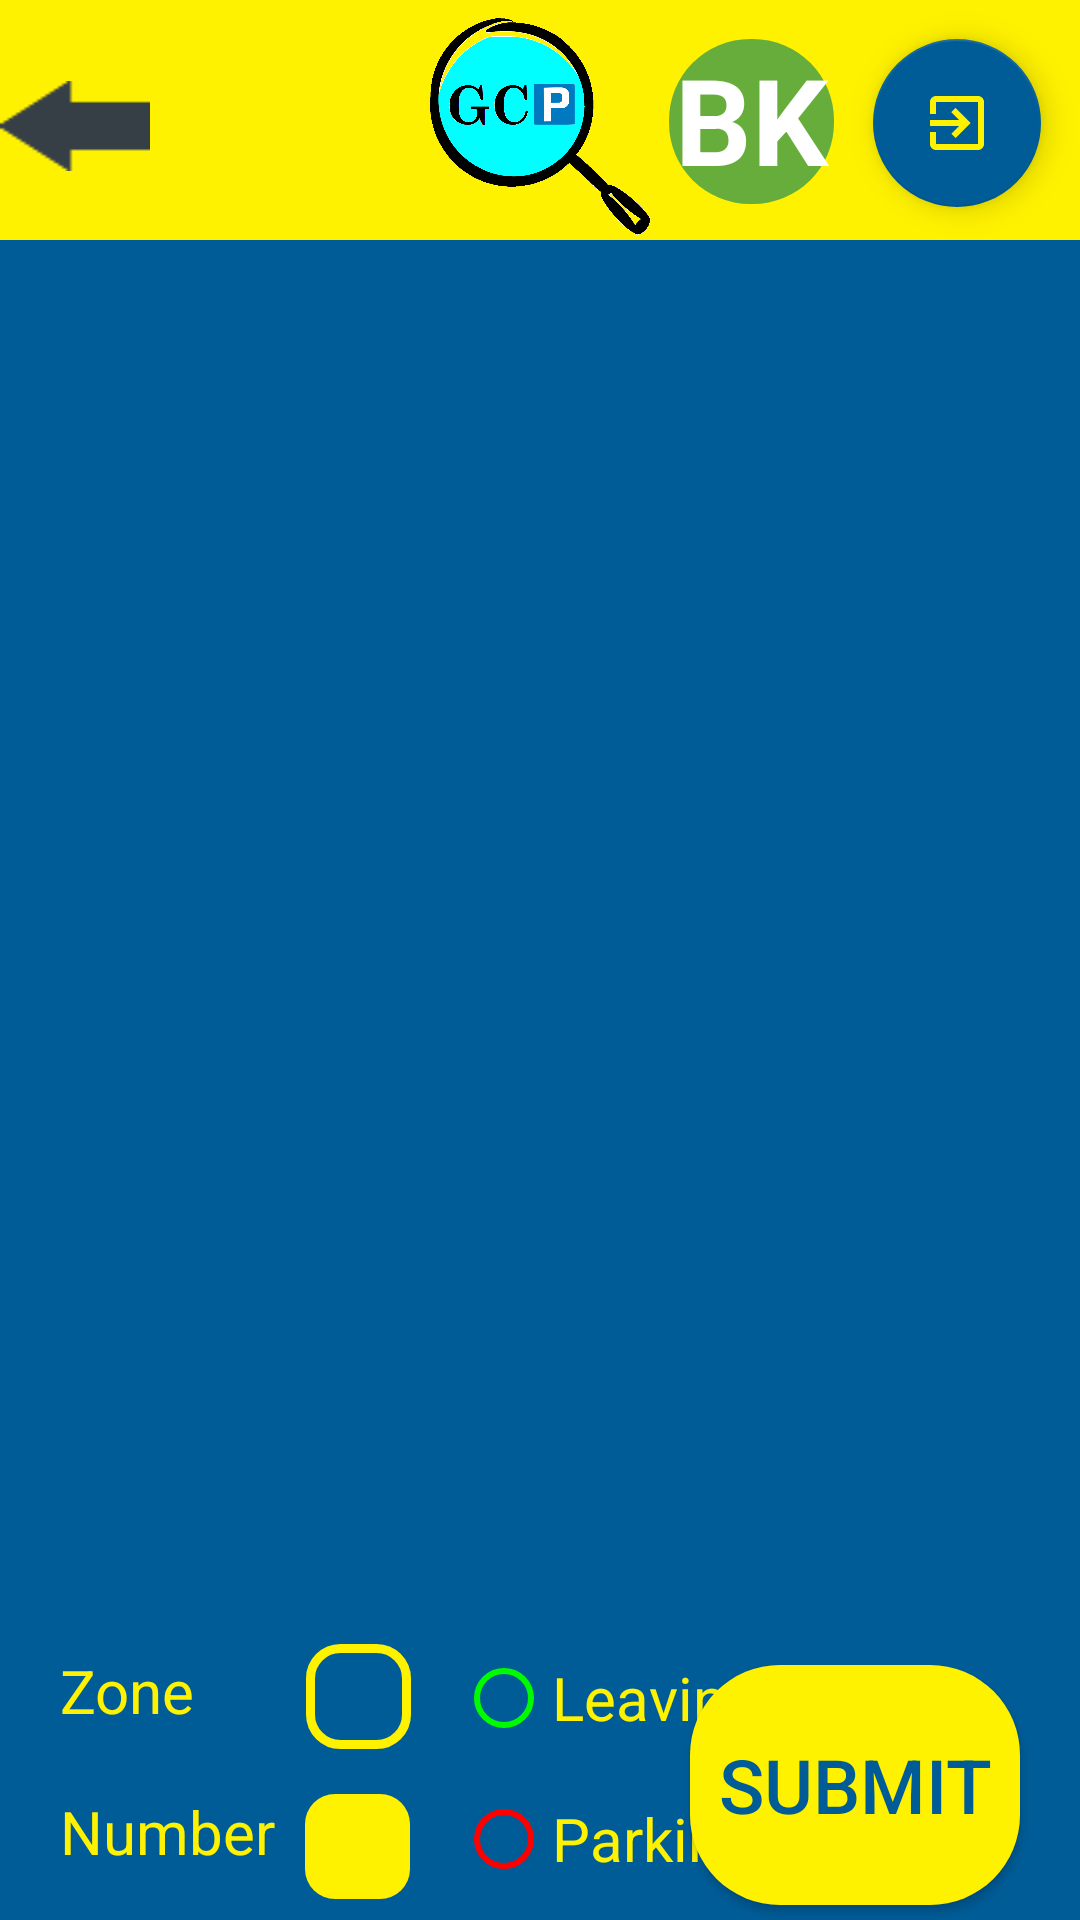

Icon bounding boxes for this 1080px x 1920px phone screenshot, format [x1,y1,x2,y2]:
back: [0,81,150,171]
exit: [873,39,1041,207]
